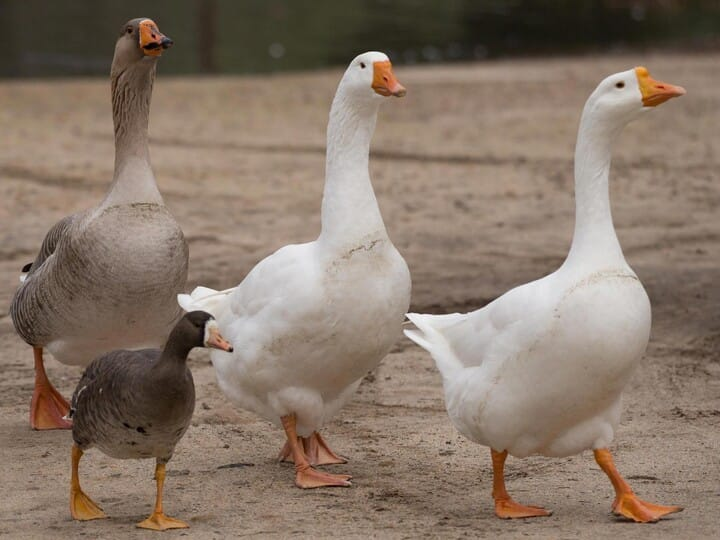goose: (408, 64, 688, 528), (185, 48, 411, 494), (13, 15, 193, 443), (66, 309, 237, 531)
